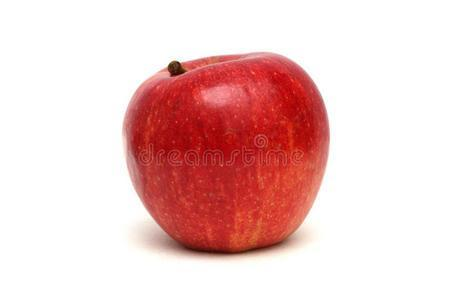apple: (120, 52, 331, 251)
